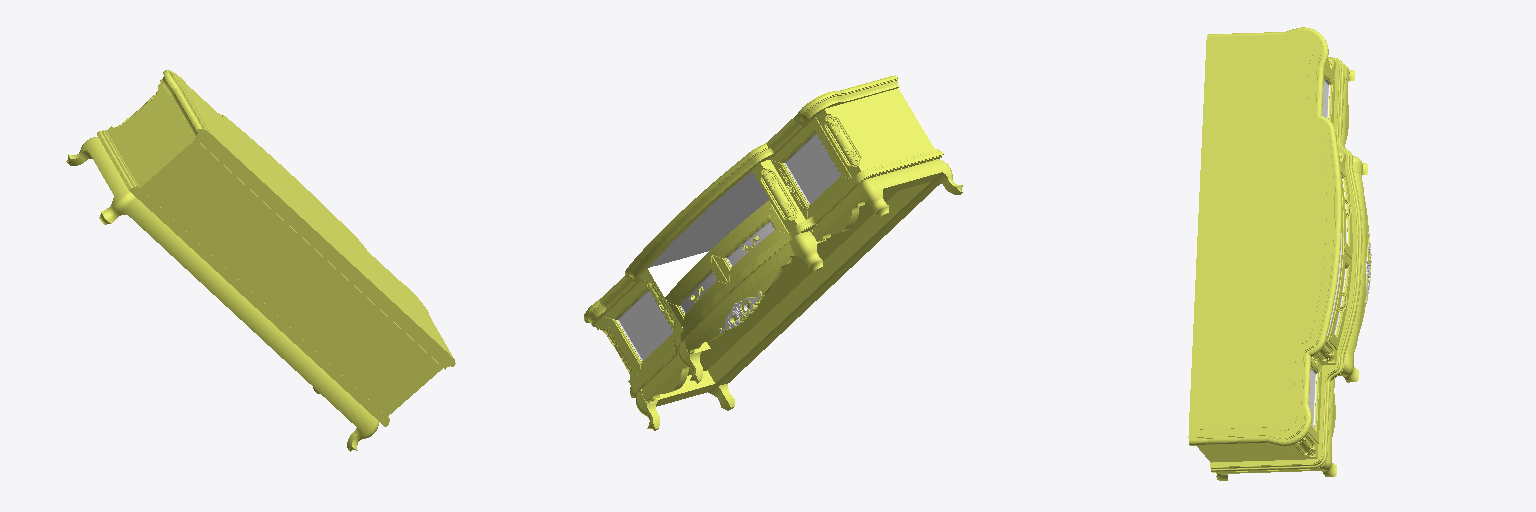
Rendered from xuanguan.obj.
3 renders of one model, left to right at view 1: azimuth 30°, elevation 25°; view 2: azimuth 150°, elevation 25°; view 3: azimuth 270°, elevation 25°, orthographic.
Visible parts, largest first — view 1: Object.1; view 2: Object.1; view 3: Object.1.
Part boxes in pixels (x1,y1,x2,y2): Object.1: (66,70,455,451); Object.1: (584,75,962,430); Object.1: (1188,27,1371,480).
Size of the model in its own units: 5576 by 5820 by 2525.